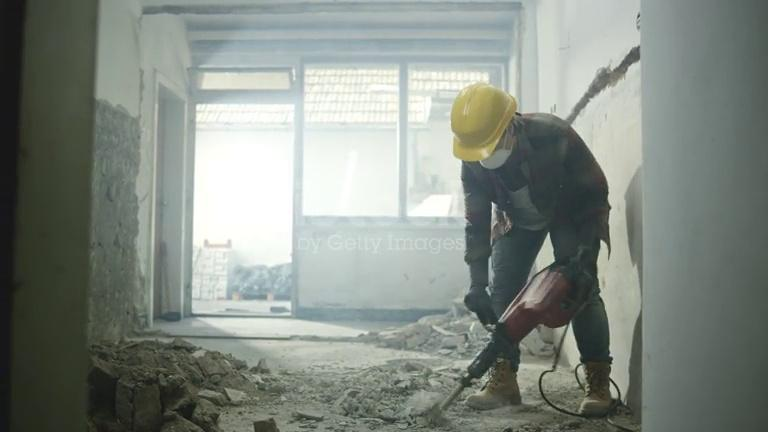helmet: (451, 86, 517, 162)
mask: (477, 149, 508, 171)
person: (449, 84, 615, 418)
